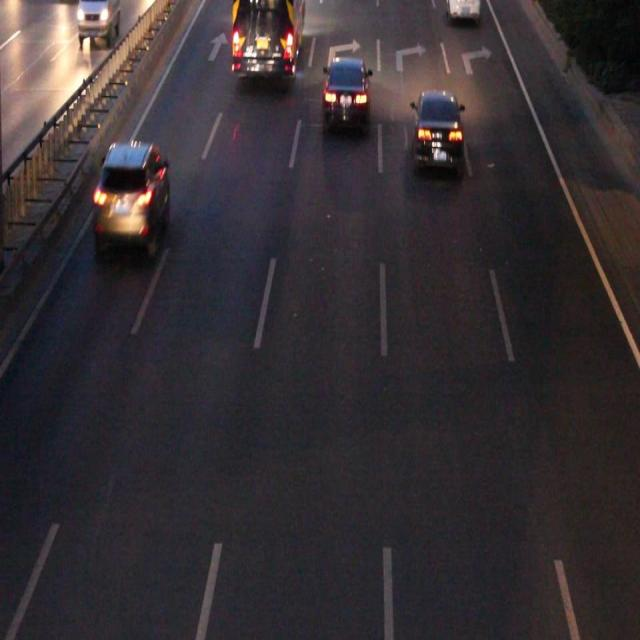car: (96, 145, 166, 252), (411, 94, 461, 168), (325, 61, 368, 122), (445, 1, 478, 18)
van: (232, 1, 304, 78)
